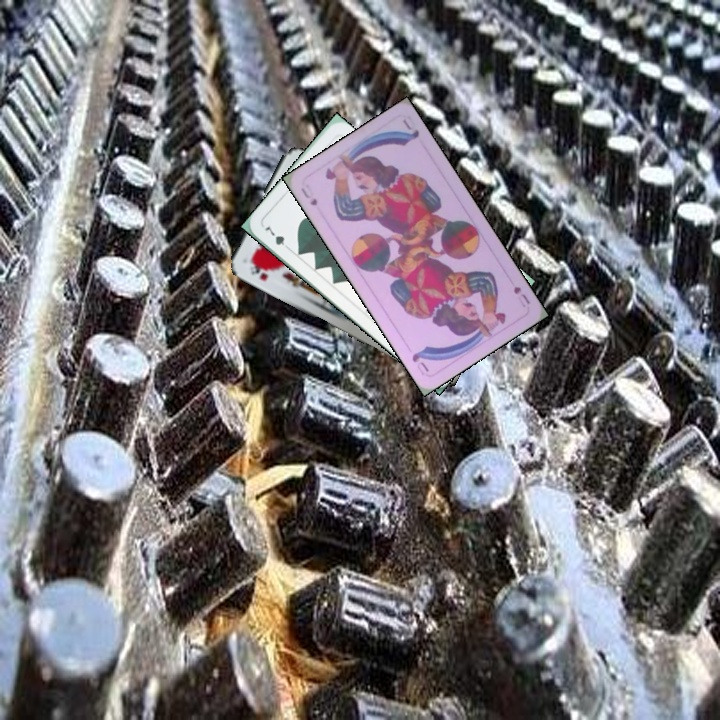G7: (260, 222, 293, 252)
HK: (245, 258, 271, 283)
SU: (297, 180, 320, 208), (509, 282, 532, 310)
